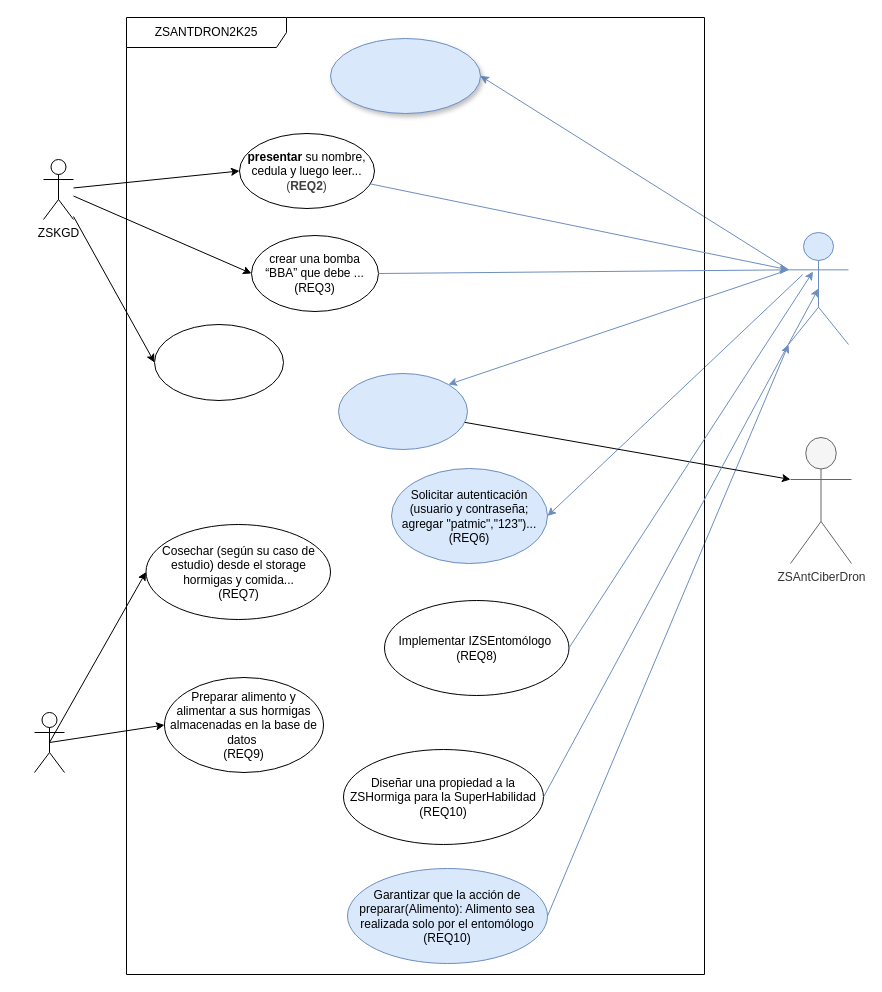
The diagram is 882 pixels wide and 992 high, and some of its shapes have lost their labels. Here are the shapes that lost their labels. From the top down, the centre of each, then its label:
[406,77]: Crear un archivo “ApellidoNombre.csv” .... ( REQ1 )
[818,288]: ZSSistemaRuso
[219,362]: crear un tipo de hormiga que derive de ... (REQ4)
[403,411]: Implementar la inteligencia artificial ... (REQ5)
[49,742]: Entomólogo
